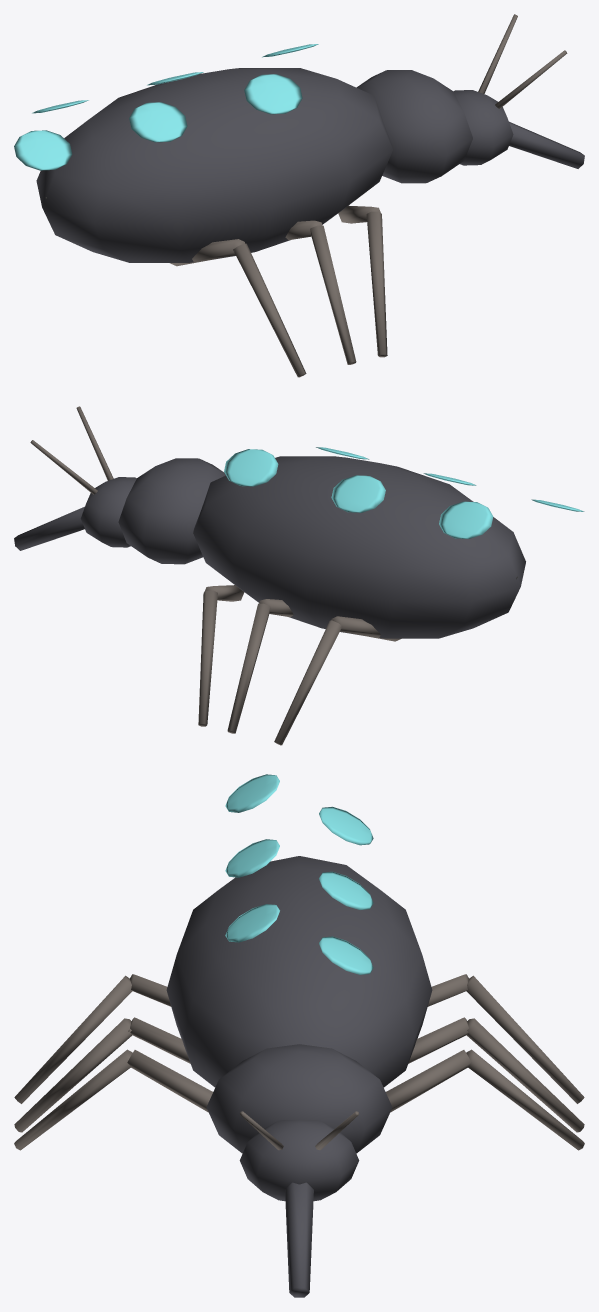
File: round-spotted-weevil.glb
The picture shows the model from 3 angles, top to bottom: view 1: azimuth 30°, elevation 25°; view 2: azimuth 150°, elevation 25°; view 3: azimuth 270°, elevation 25°; orthographic projection. The views are drawn at different scales.
Visible parts, largest first — view 1: e; view 2: e; view 3: e.
Boxes of the visible parts, left/top/right/bottom form: e: left=14, top=14, right=584, bottom=377; e: left=14, top=406, right=584, bottom=745; e: left=14, top=774, right=584, bottom=1297.
Size of the model in its own units: 0.3822 by 0.1263 by 0.2792.
